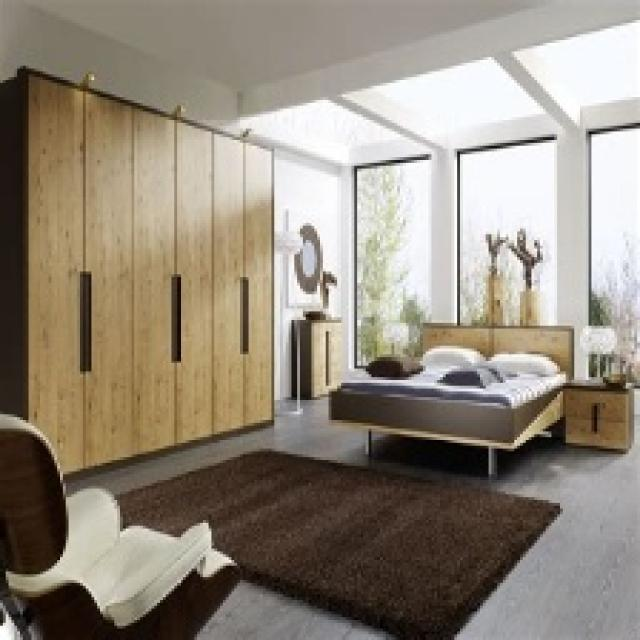Bed: (326, 320, 574, 477)
